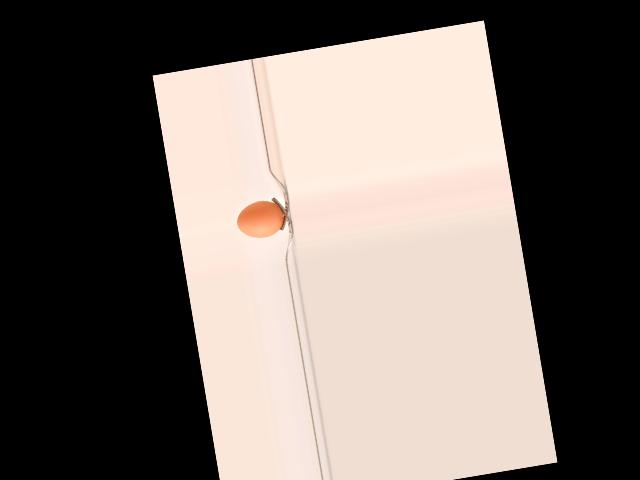egg: (234, 198, 286, 241)
